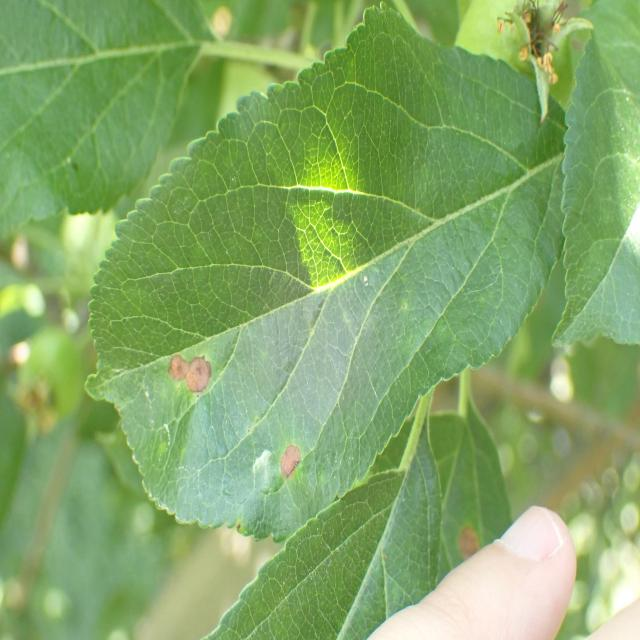Black Rot: (146, 337, 243, 419), (255, 428, 319, 485), (448, 513, 488, 563)
